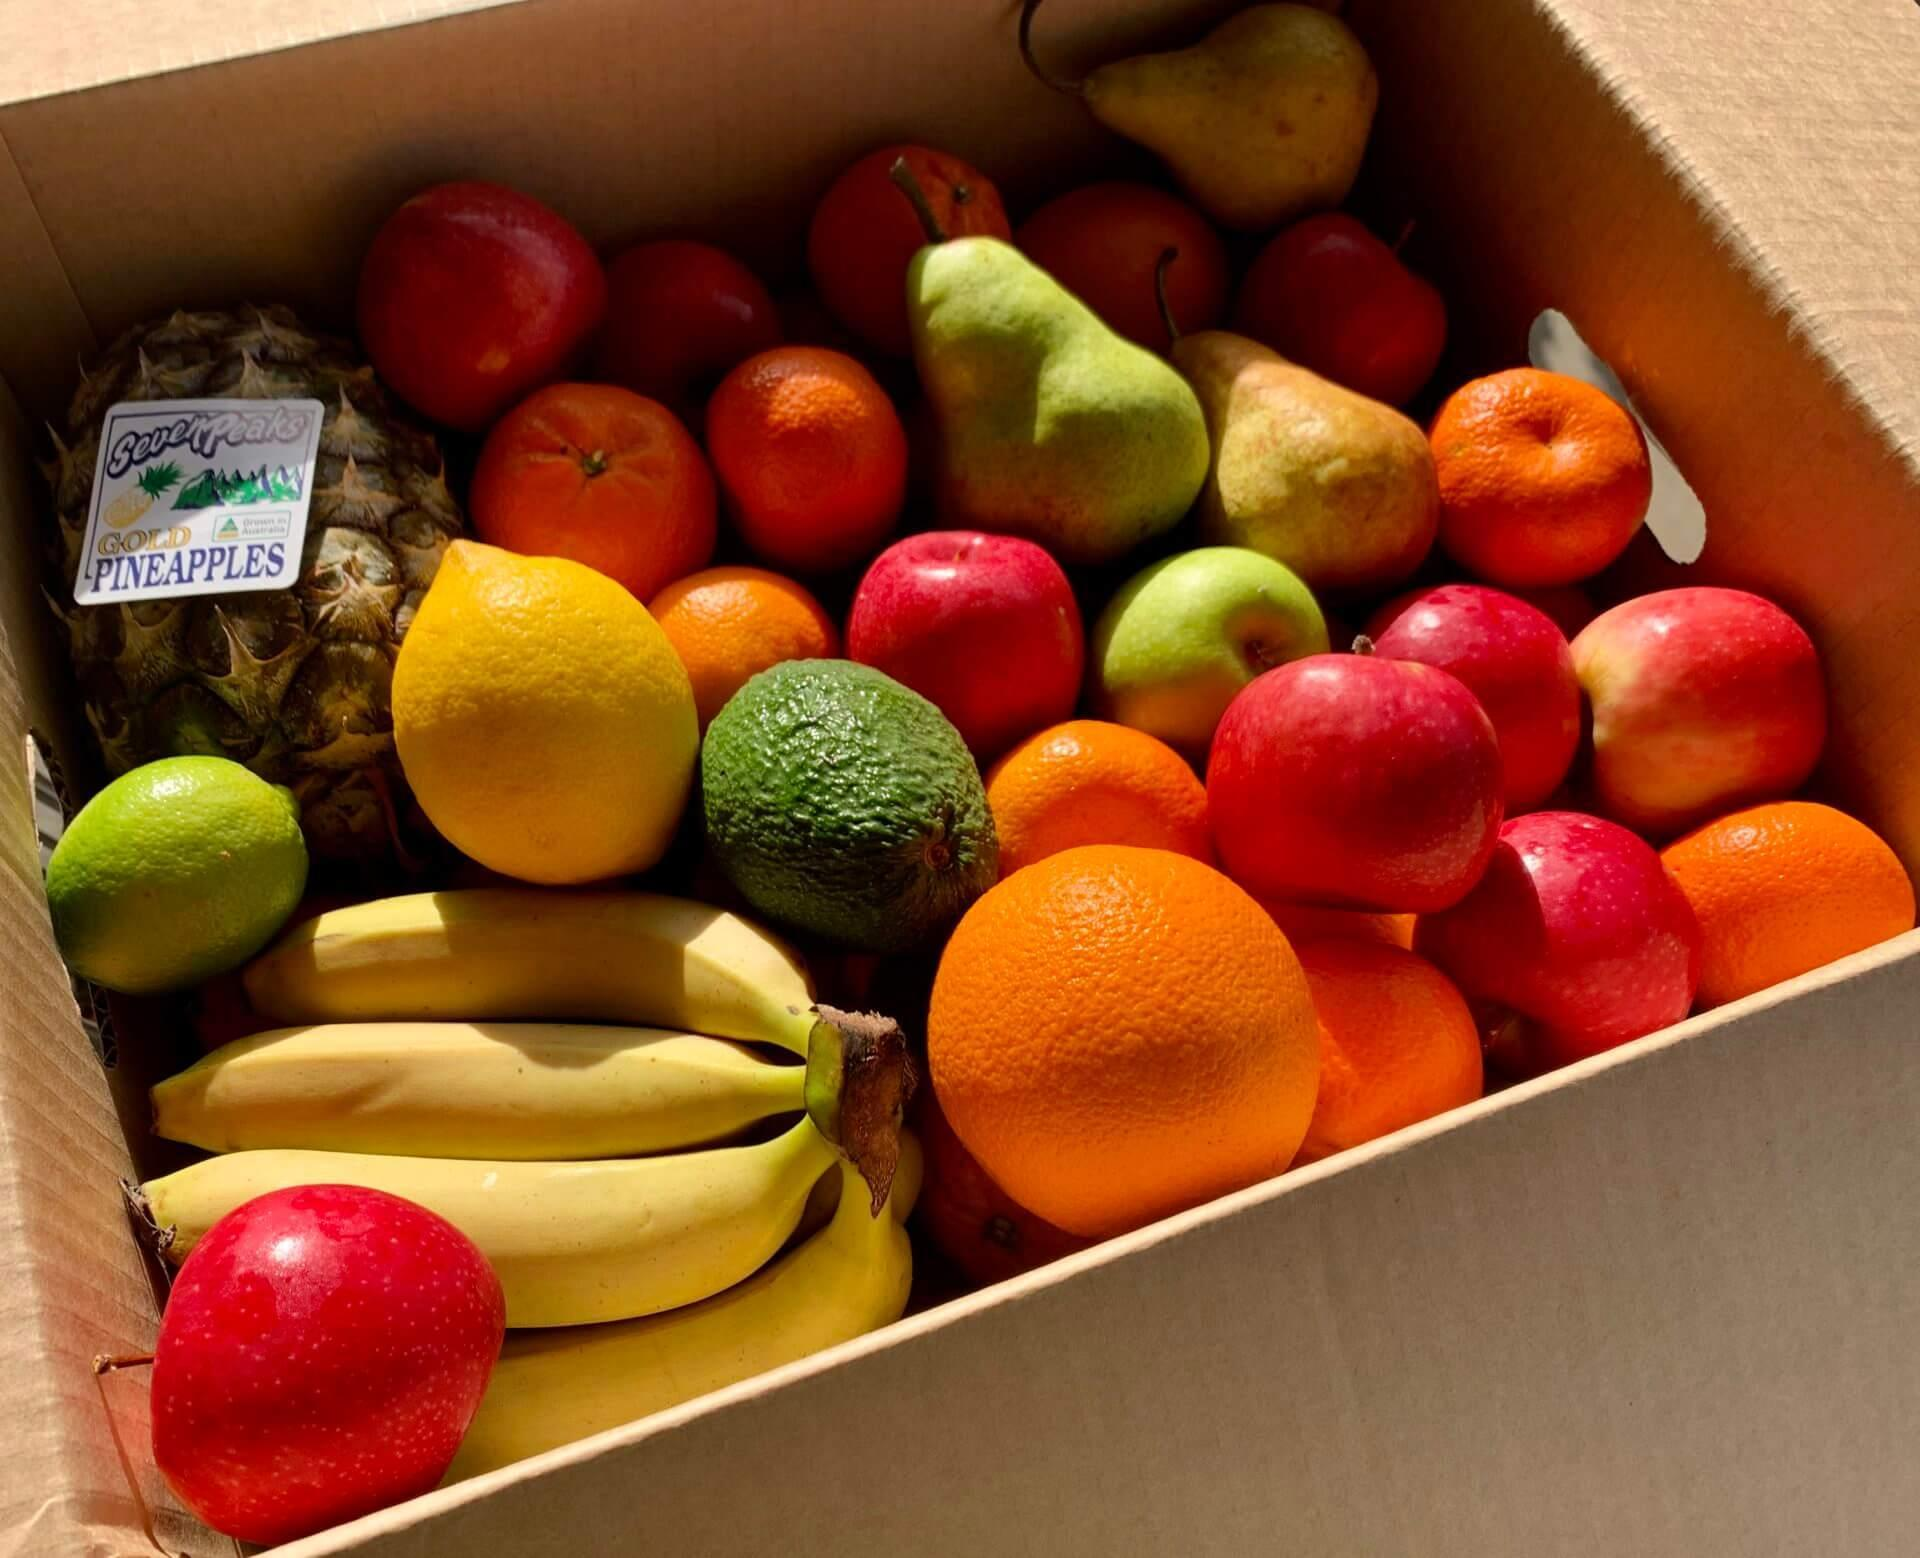apple: (141, 1173, 513, 1544), (1214, 645, 1510, 920), (1566, 579, 1826, 835), (850, 528, 1084, 760)
